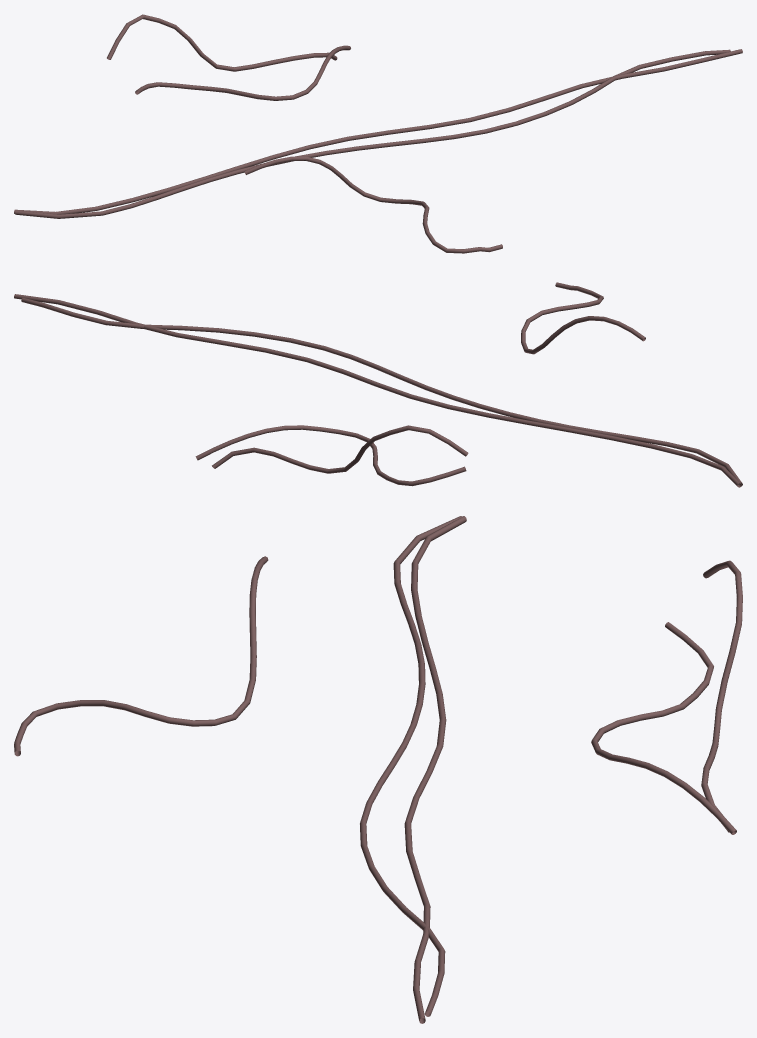
The model's file is SM_Cables_Palais.fbx.
3 renders of one model, top to bottom at view 1: azimuth 30°, elevation 25°; view 2: azimuth 150°, elevation 25°; view 3: azimuth 270°, elevation 25°, orthographic. The views are drawn at different scales.
Visible parts, largest first — view 1: polySurface6, polySurface5, polySurface1, polySurface4, polySurface3; view 2: polySurface6, polySurface5, polySurface3, polySurface1, polySurface4; view 3: polySurface5, polySurface6, polySurface1, polySurface3, polySurface4.
Part boxes in pixels (x1,y1,x2,y2): polySurface6: (14, 49, 742, 214); polySurface5: (15, 49, 730, 218); polySurface1: (244, 156, 502, 253); polySurface4: (107, 14, 337, 71); polySurface3: (135, 45, 350, 100); polySurface6: (14, 294, 741, 487); polySurface5: (21, 297, 742, 486); polySurface3: (195, 425, 466, 486); polySurface1: (521, 282, 645, 354); polySurface4: (212, 425, 468, 473); polySurface5: (360, 516, 461, 1016); polySurface6: (404, 516, 466, 1023); polySurface1: (14, 556, 268, 756); polySurface3: (591, 622, 736, 834); polySurface4: (701, 560, 742, 832).
Bounding box in the file's own units: 1088 × 131 × 671.
